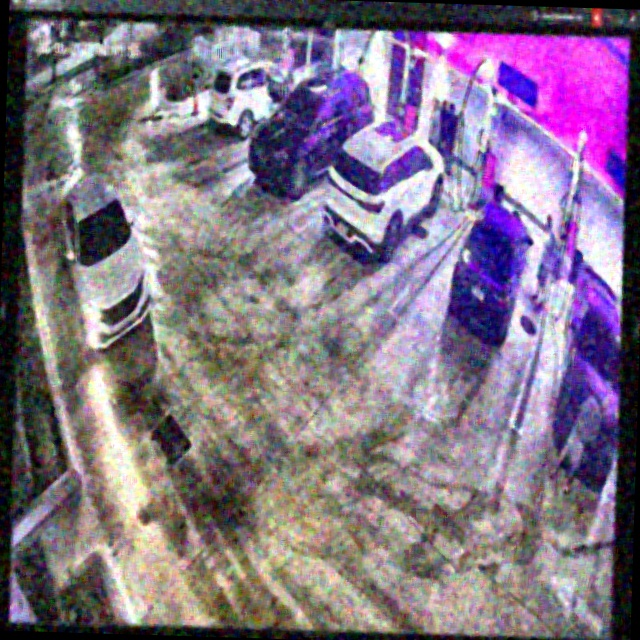Car: (53, 169, 154, 356), (324, 116, 446, 262), (246, 64, 376, 194), (449, 199, 534, 344)
